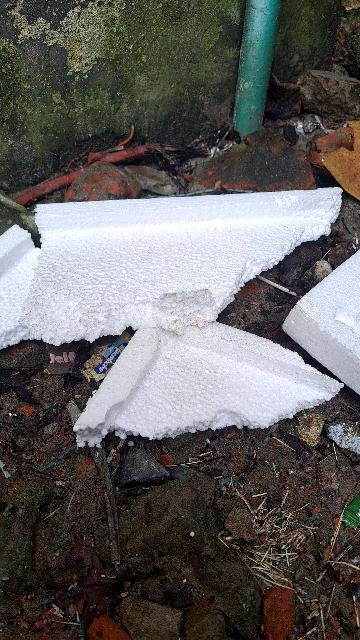cocksheet: (0, 159, 360, 467)
